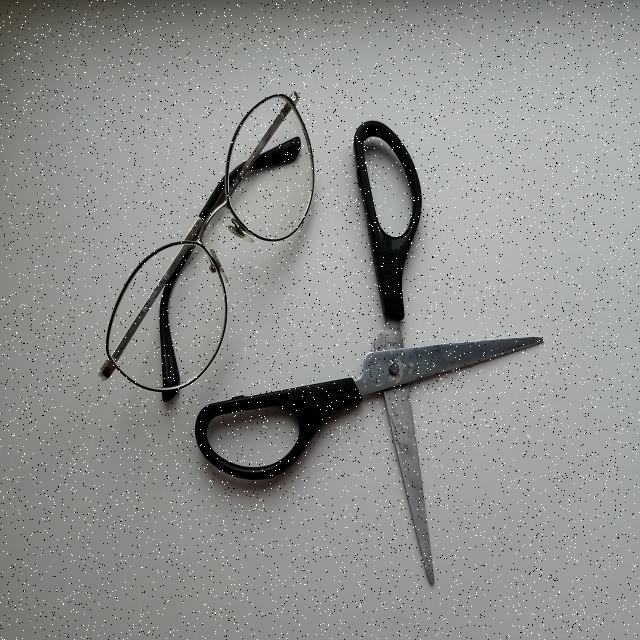scissors: (165, 62, 596, 637)
